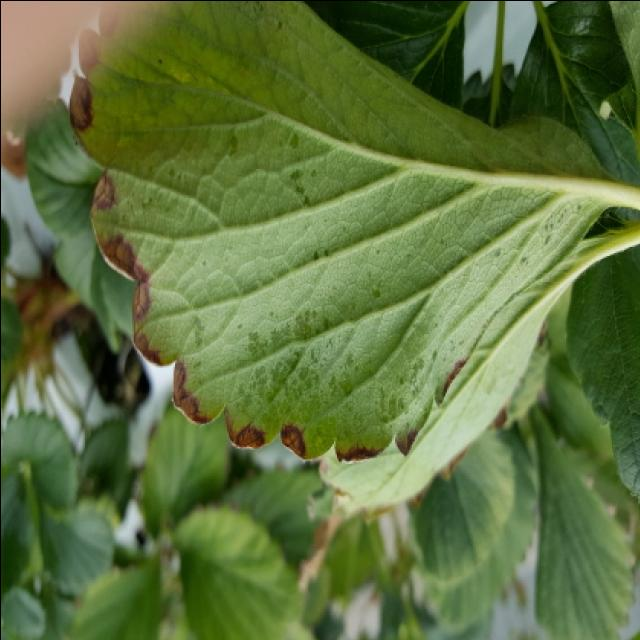Angular Leafspot: (67, 2, 608, 464)
